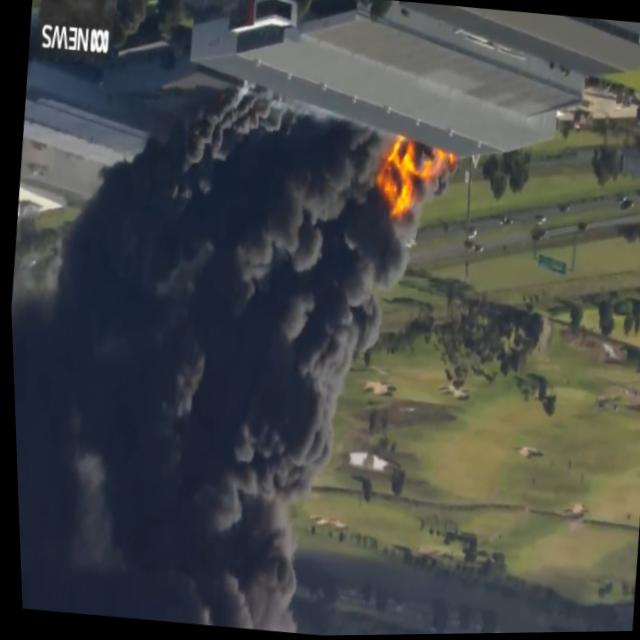Fire: (367, 136, 423, 222)
